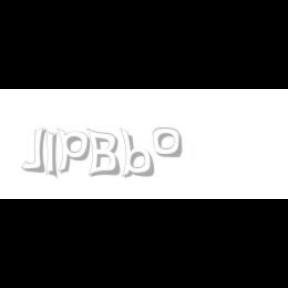B: (86, 128, 120, 178)
I: (46, 128, 58, 180)
J: (20, 128, 46, 172)
b: (119, 128, 157, 178)
o: (153, 128, 182, 158)
p: (57, 128, 94, 174)
